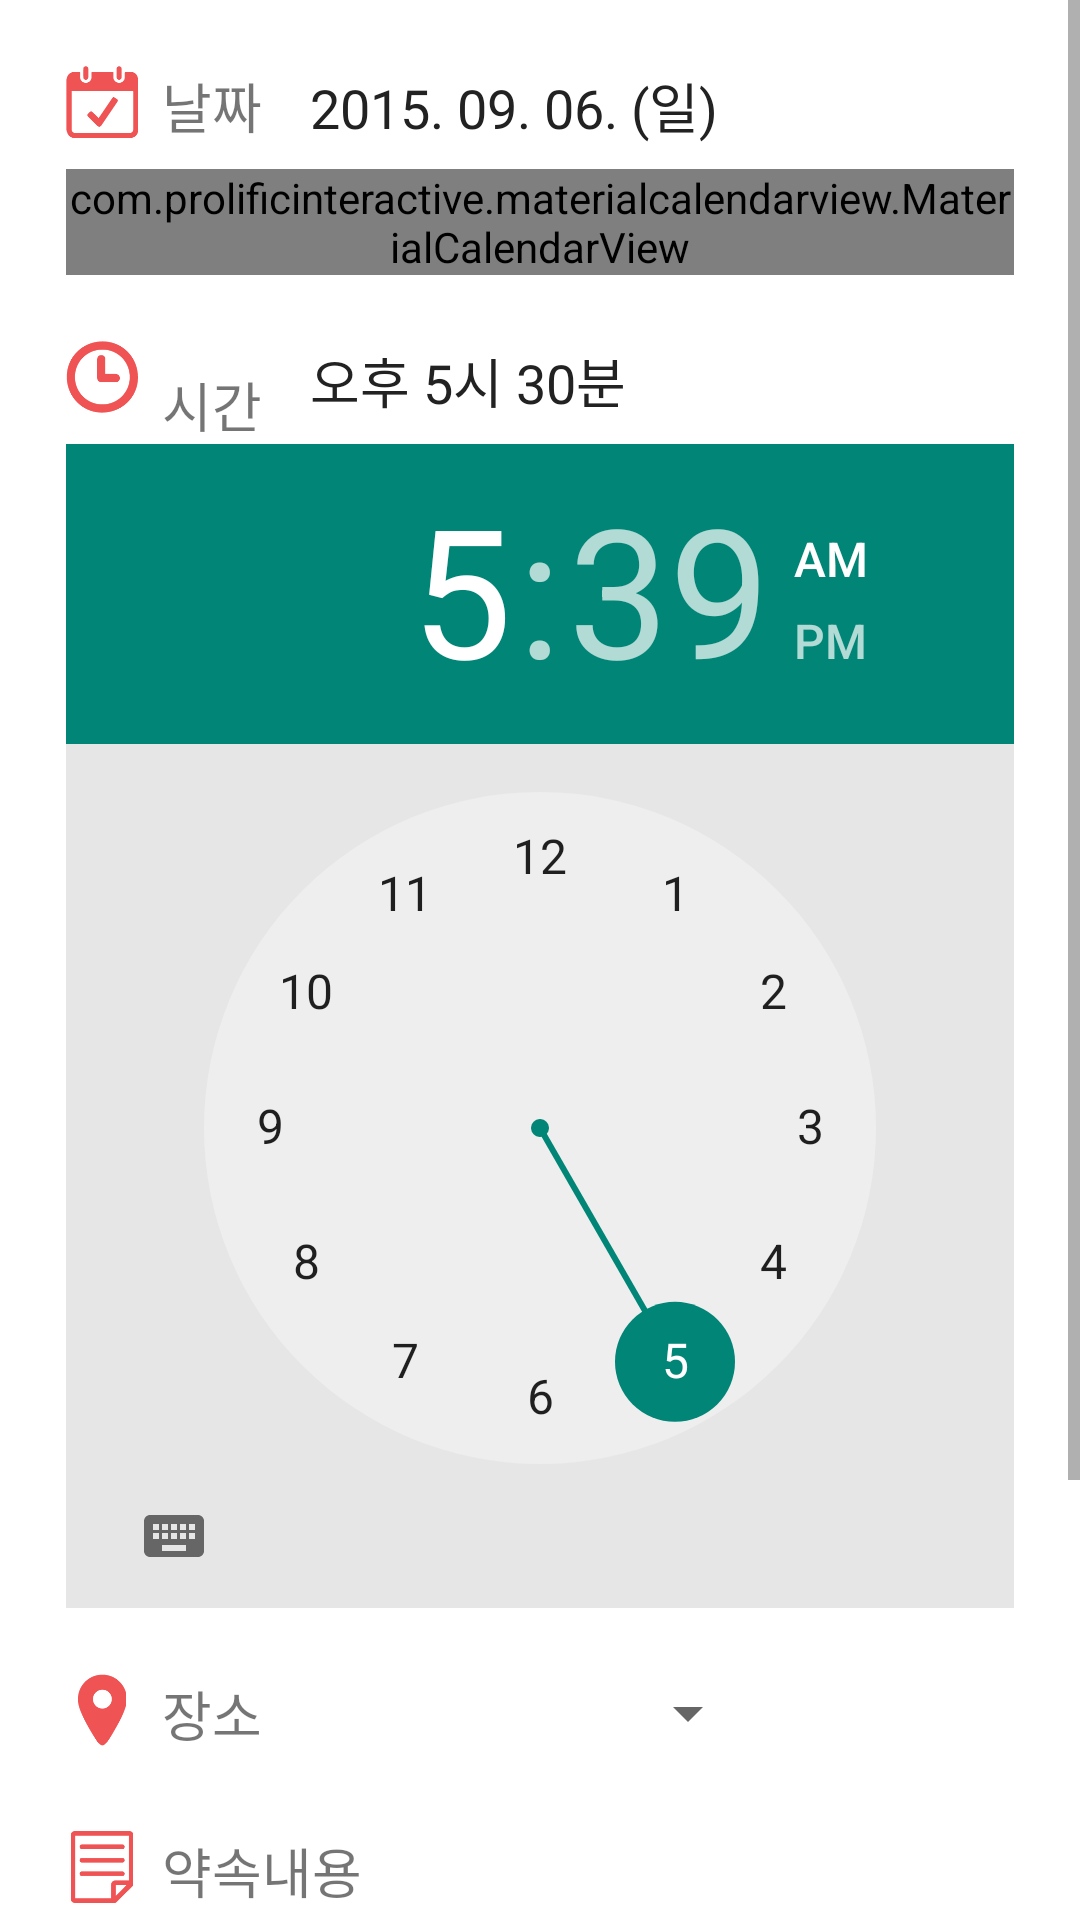

Point at icon controls on the screen. Image size 1080 x 1920, points as (x,y).
sch contents: (102,1867)
sch date: (102,102)
sch location: (102,1710)
sch time: (102,377)
